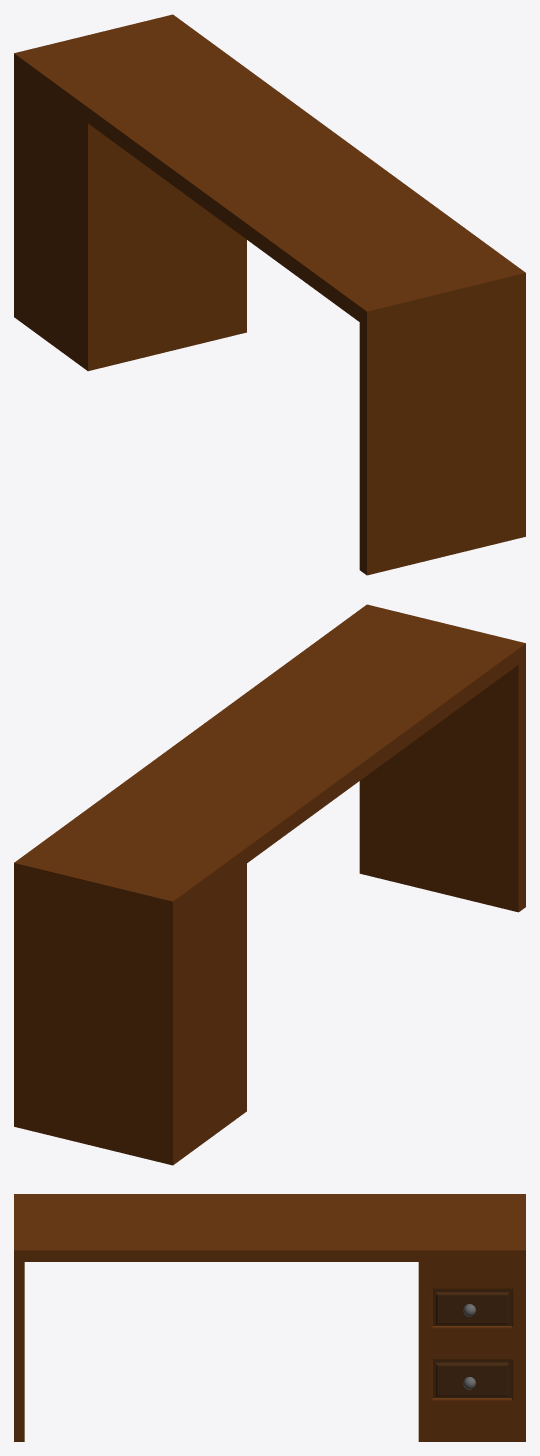
Rendered from Escrivaninha.fbx.
The picture shows the model from 3 angles, top to bottom: view 1: azimuth 30°, elevation 25°; view 2: azimuth 150°, elevation 25°; view 3: azimuth 270°, elevation 25°; orthographic projection. The views are drawn at different scales.
Visible parts, largest first — view 1: Cube.037; view 2: Cube.037; view 3: Cube.037.
Part boxes in pixels (box(x1,y1,x2,y2)): Cube.037: box(14, 14, 525, 575); Cube.037: box(14, 604, 525, 1165); Cube.037: box(14, 1194, 525, 1441).
Bounding box in the file's own units: 1021 × 1471 × 3566.
